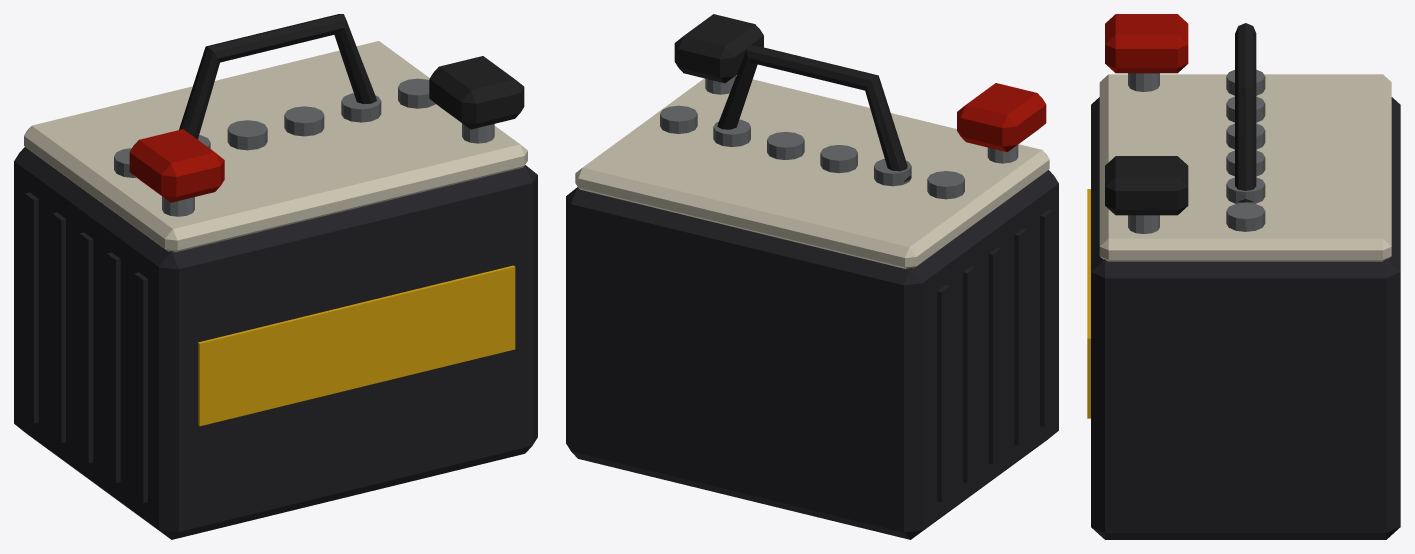
Rendered from bateria_12v.glb.
The picture shows the model from 3 angles, left to right: view 1: azimuth 30°, elevation 25°; view 2: azimuth 150°, elevation 25°; view 3: azimuth 270°, elevation 25°; orthographic projection. The views are drawn at different scales.
Parts seen in each view (by area): view 1: bateria_12v_bateria_caixa, bateria_12v_bateria_tampa, bateria_12v_amarelo_tampa, bateria_12v_plastico_preto, bateria_12v_vermelho_borne, bateria_12v_plastico_cinza, bateria_12v_chumbo; view 2: bateria_12v_bateria_caixa, bateria_12v_bateria_tampa, bateria_12v_plastico_preto, bateria_12v_plastico_cinza, bateria_12v_vermelho_borne, bateria_12v_chumbo; view 3: bateria_12v_bateria_caixa, bateria_12v_bateria_tampa, bateria_12v_plastico_preto, bateria_12v_vermelho_borne, bateria_12v_plastico_cinza, bateria_12v_chumbo, bateria_12v_amarelo_tampa.
Part boxes in pixels (bbox=[...]): bateria_12v_bateria_caixa: bbox=[14, 147, 537, 539]; bateria_12v_bateria_tampa: bbox=[24, 41, 527, 252]; bateria_12v_amarelo_tampa: bbox=[198, 265, 515, 426]; bateria_12v_plastico_preto: bbox=[179, 14, 524, 139]; bateria_12v_vermelho_borne: bbox=[129, 129, 224, 202]; bateria_12v_plastico_cinza: bbox=[114, 78, 435, 177]; bateria_12v_chumbo: bbox=[162, 123, 494, 216]; bateria_12v_bateria_caixa: bbox=[566, 170, 1058, 539]; bateria_12v_bateria_tampa: bbox=[575, 75, 1049, 269]; bateria_12v_plastico_preto: bbox=[674, 14, 910, 182]; bateria_12v_plastico_cinza: bbox=[660, 105, 964, 199]; bateria_12v_vermelho_borne: bbox=[957, 83, 1046, 152]; bateria_12v_chumbo: bbox=[705, 76, 1018, 163]; bateria_12v_bateria_caixa: bbox=[1091, 97, 1400, 539]; bateria_12v_bateria_tampa: bbox=[1099, 74, 1391, 261]; bateria_12v_plastico_preto: bbox=[1105, 23, 1256, 215]; bateria_12v_vermelho_borne: bbox=[1105, 14, 1188, 73]; bateria_12v_plastico_cinza: bbox=[1226, 69, 1265, 231]; bateria_12v_chumbo: bbox=[1128, 73, 1159, 233]; bateria_12v_amarelo_tampa: bbox=[1087, 189, 1090, 418].
Size of the model in its own units: 0.243 by 0.2502 by 0.177.
